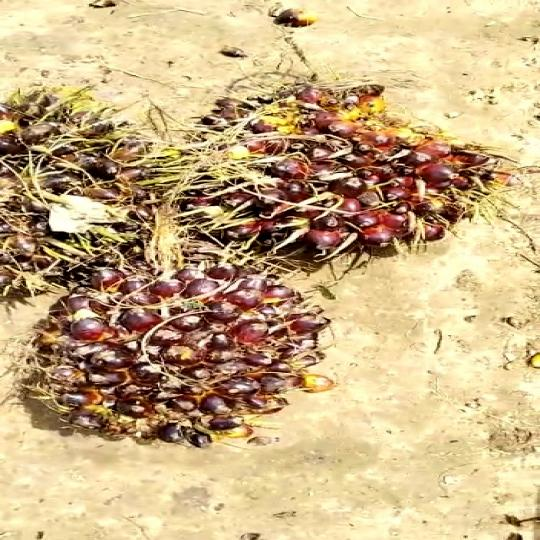kurang masak: (21, 256, 335, 468), (173, 80, 491, 270), (0, 88, 158, 303)
